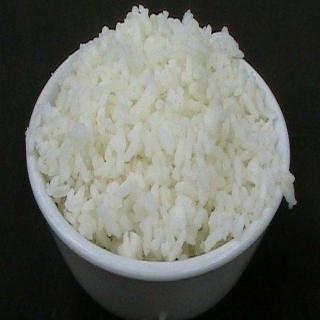Nasi: (26, 3, 298, 263)
